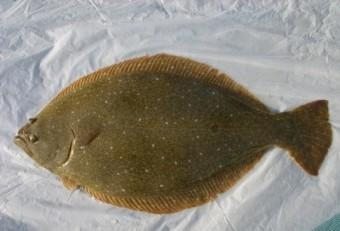fish: (15, 53, 333, 215)
